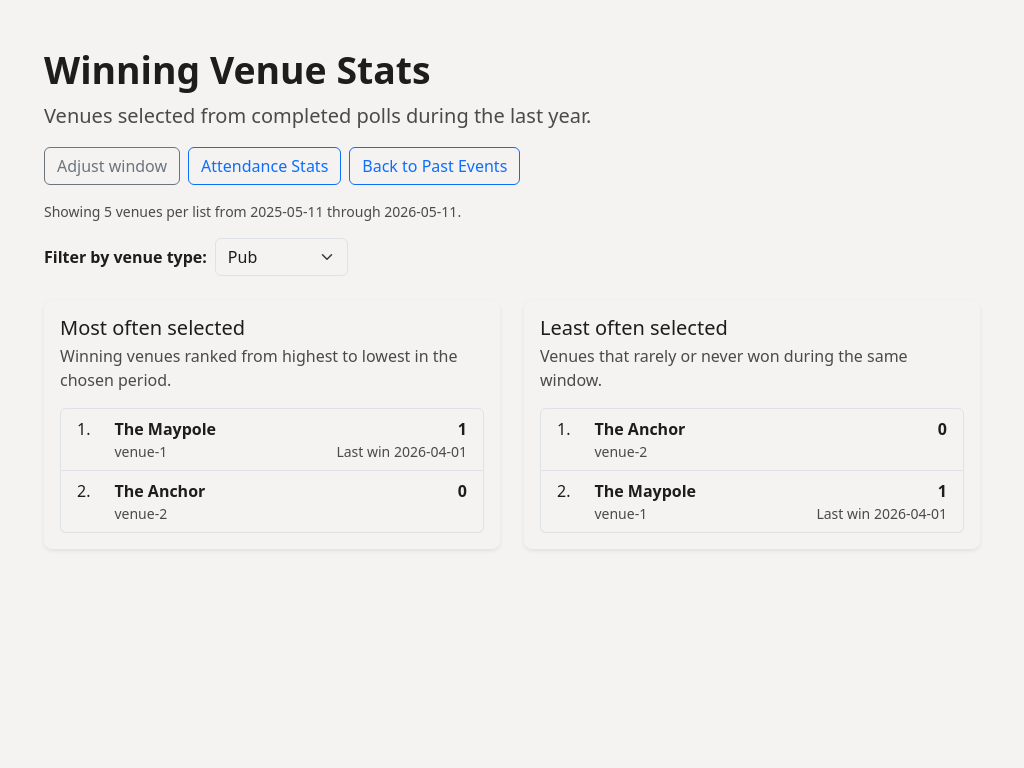
WinningVenueStatsPage › applies settings from the modal and updates page text
Click the button "Adjust window": (112, 166) [44,147,180,185]
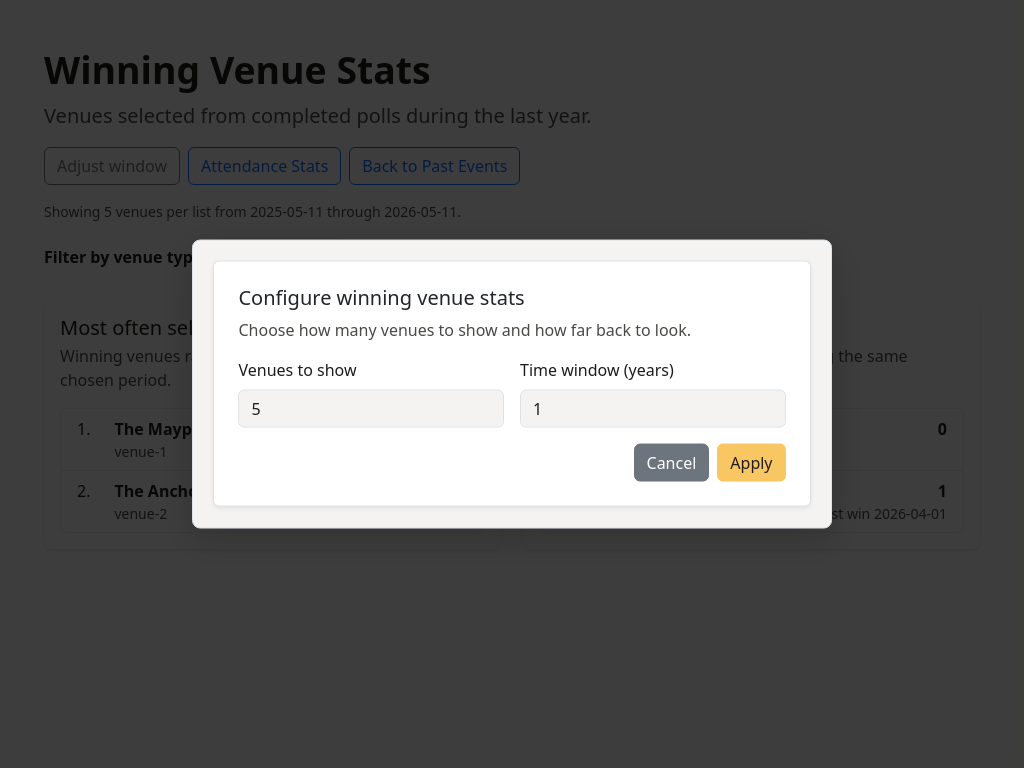
Replace the text in the number field labelled "Venues to show" with "9": (371, 409) [238,390,504,428]
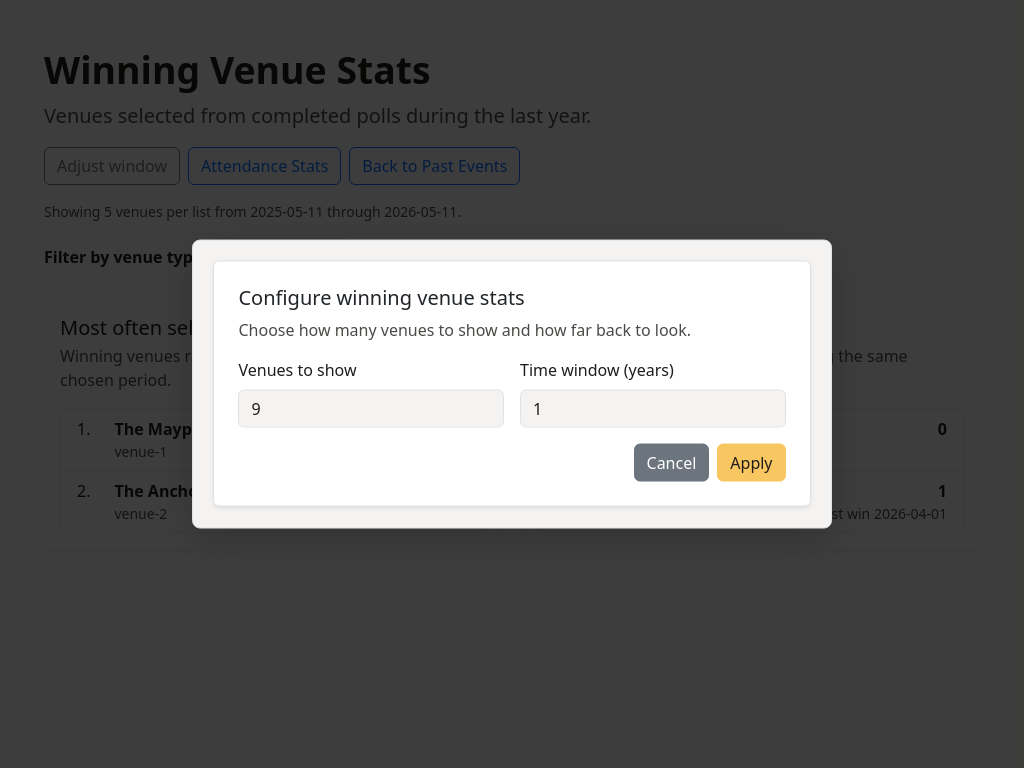
Replace the text in the number field labelled "Time window (years)" with "3": (653, 409) [520,390,786,428]
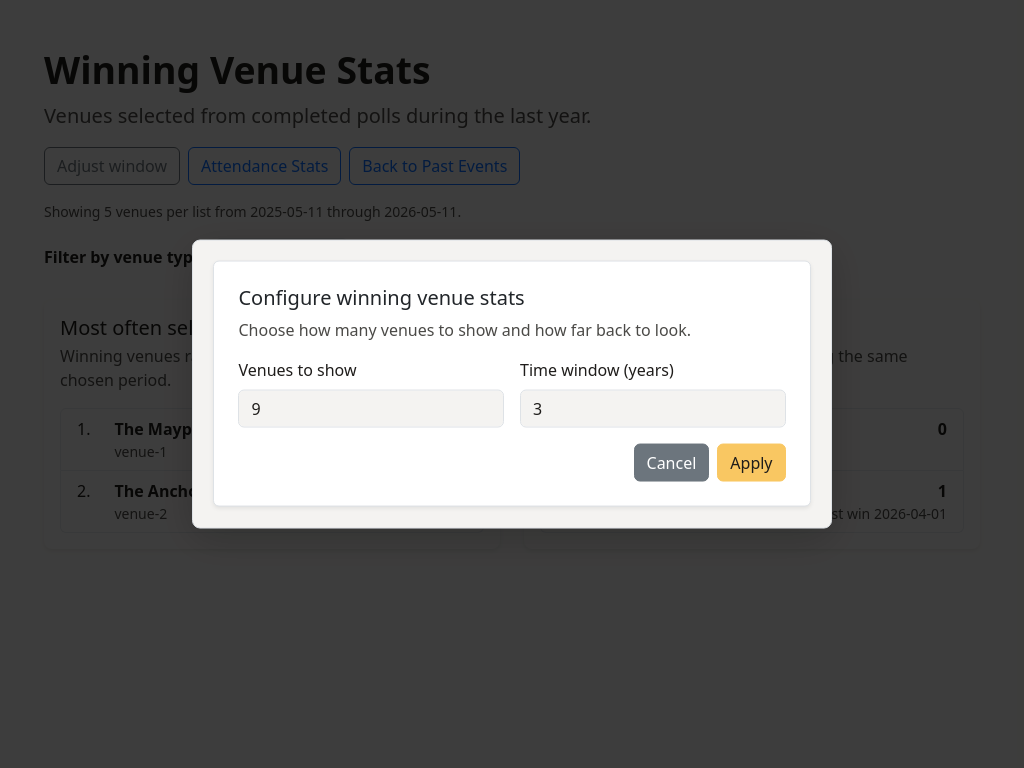
Click the button "Apply": (751, 463) [717,444,786,482]
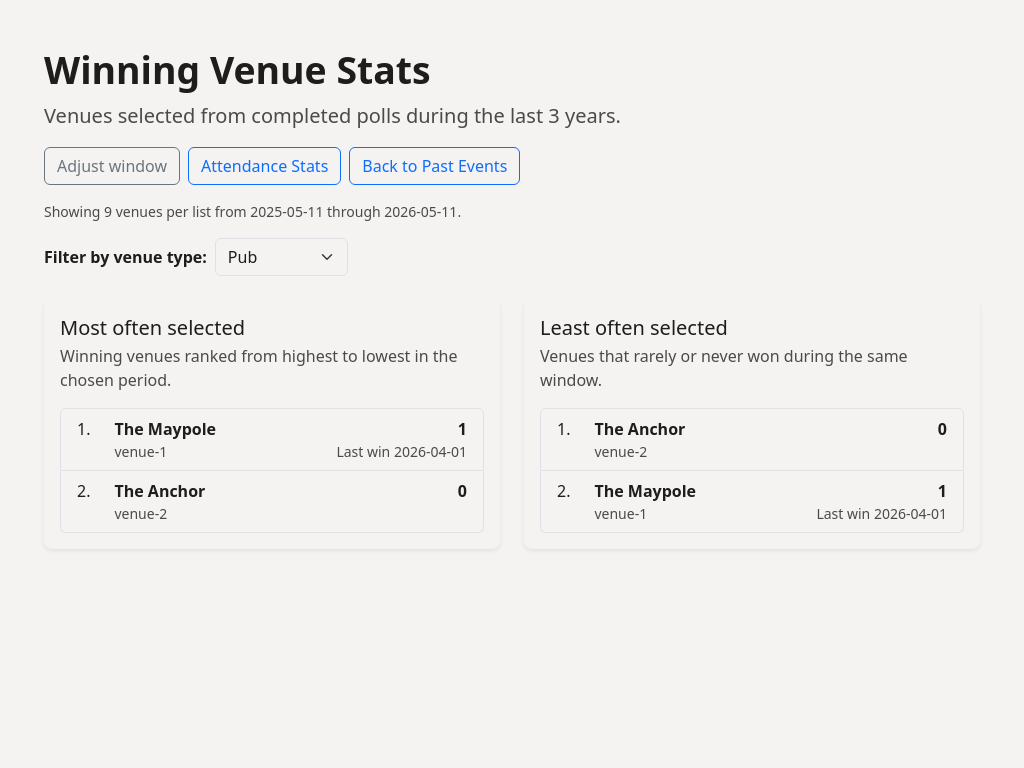
expect the text "last 3 years" is shown: met, box [510,102,616,129]
expect the text "Showing 9 venues per list" is shown: met, box [44,202,461,221]
